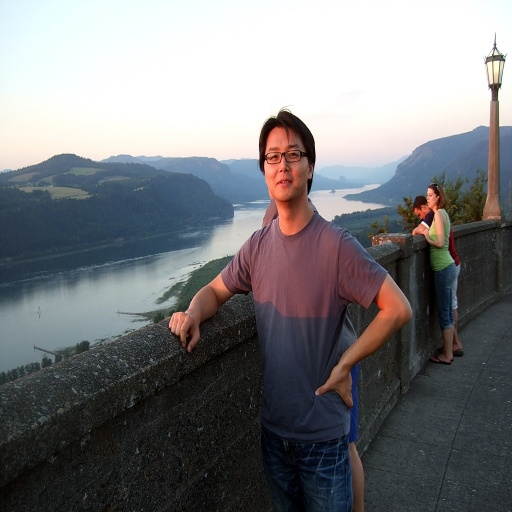hand: (167, 290, 210, 359), (315, 364, 354, 410), (424, 226, 429, 240)
